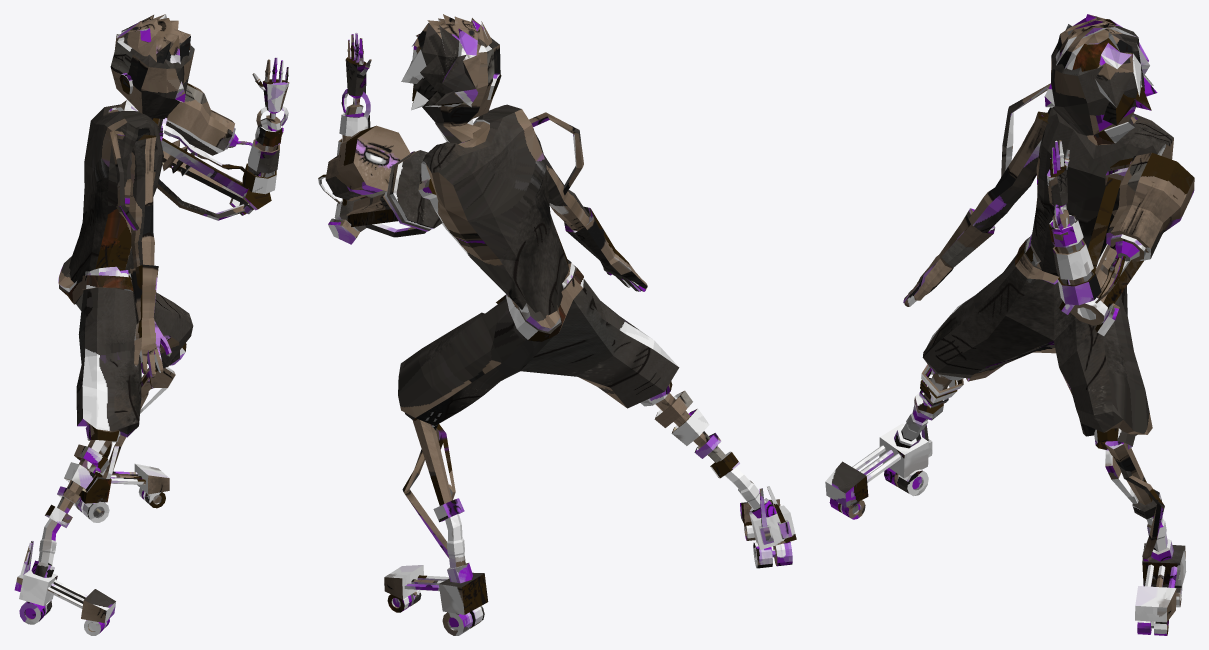
The model's file is CyborgFINALAnimation_000023.obj.
3 renders of one model, left to right at view 1: azimuth 30°, elevation 25°; view 2: azimuth 150°, elevation 25°; view 3: azimuth 270°, elevation 25°, orthographic. The views are drawn at different scales.
Visible parts, largest first — view 1: CyborgMesh_Cube.002; view 2: CyborgMesh_Cube.002; view 3: CyborgMesh_Cube.002.
Part boxes in pixels (bbox=[...]): CyborgMesh_Cube.002: bbox=[14, 14, 289, 635]; CyborgMesh_Cube.002: bbox=[318, 14, 796, 635]; CyborgMesh_Cube.002: bbox=[825, 14, 1194, 635].
Bounding box in the file's own units: 5.96 × 8.66 × 4.78.
